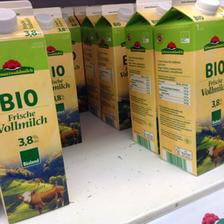Milch: (0, 0, 72, 224), (154, 0, 222, 176), (31, 6, 86, 148)
